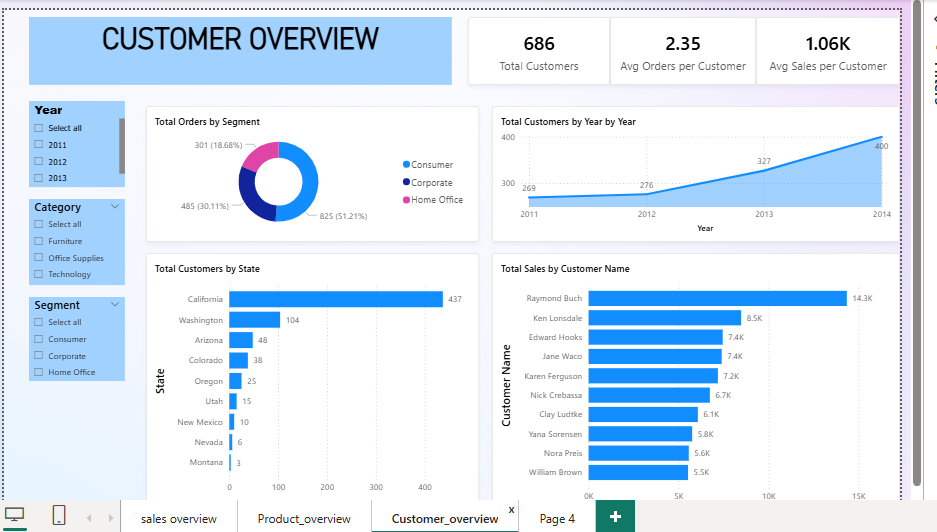

This screenshot's page, from the dashboard's own definition file:
{"tool":"powerbi","page":{"name":"Customer_overview","canvas":[1280,720],"ordinal":2},"visuals":[{"type":"slicer","fields":{"Values":["DimDate.Year"]},"box":[35.7,130,137.1,122.9],"z":0},{"type":"slicer","fields":{"Values":["DimProduct.Category"]},"box":[35.7,270,137.1,122.9],"z":1000},{"type":"slicer","fields":{"Values":["DimCustomer.Segment"]},"box":[35.7,410,137.1,120],"z":2000},{"type":"textbox","box":[35.7,10,604.3,97.1],"z":3000},{"type":"card","fields":{"Values":["DimCustomer.Avg Orders per Customer"]},"box":[865.7,10,208.6,97.1],"z":4000},{"type":"card","fields":{"Values":["DimCustomer.Avg Sales per Customer"]},"box":[1074.3,10,205.7,97.1],"z":5000},{"type":"donutChart","fields":{"Category":["DimCustomer.Segment"],"Y":["Walmart.Total Orders"]},"box":[202.9,137.1,475.7,194.3],"z":6000},{"type":"card","fields":{"Values":["DimCustomer.Total Customers"]},"box":[662.9,10,202.9,97.1],"z":7000},{"type":"barChart","fields":{"Category":["DimCustomer.State"],"Y":["DimCustomer.Total Customers"]},"box":[202.9,347.1,475.7,360],"z":8000},{"type":"barChart","fields":{"Category":["DimCustomer.Customer Name"],"Y":["Walmart.Total Sales"]},"box":[697.1,347.1,582.9,372.9],"z":9000},{"type":"areaChart","fields":{"Category":["Calendar.Year"],"Y":["Calendar.Total Customers by Year"]},"box":[697.1,137.1,582.9,194.3],"z":10000}]}

Visuals, with their boxes on the page's 1280x720 design canvas (x1, y1, x2, y2). These are canvas units, not pixel positions in the 937x532 screenshot, which may show the page scaled, cropped or inside an application window:
slicer - DimDate.Year: (left=36, top=130, right=173, bottom=253)
slicer - DimProduct.Category: (left=36, top=270, right=173, bottom=393)
slicer - DimCustomer.Segment: (left=36, top=410, right=173, bottom=530)
textbox: (left=36, top=10, right=640, bottom=107)
card - DimCustomer.Avg Orders per Customer: (left=866, top=10, right=1074, bottom=107)
card - DimCustomer.Avg Sales per Customer: (left=1074, top=10, right=1280, bottom=107)
donutChart - DimCustomer.Segment x Walmart.Total Orders: (left=203, top=137, right=679, bottom=331)
card - DimCustomer.Total Customers: (left=663, top=10, right=866, bottom=107)
barChart - DimCustomer.State x DimCustomer.Total Customers: (left=203, top=347, right=679, bottom=707)
barChart - DimCustomer.Customer Name x Walmart.Total Sales: (left=697, top=347, right=1280, bottom=720)
areaChart - Calendar.Year x Calendar.Total Customers by Year: (left=697, top=137, right=1280, bottom=331)
